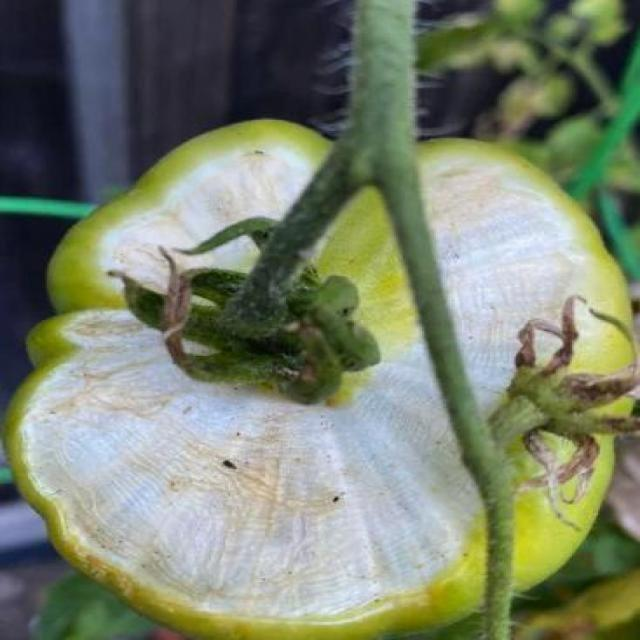Sunscald Fruit: (15, 92, 396, 418)
